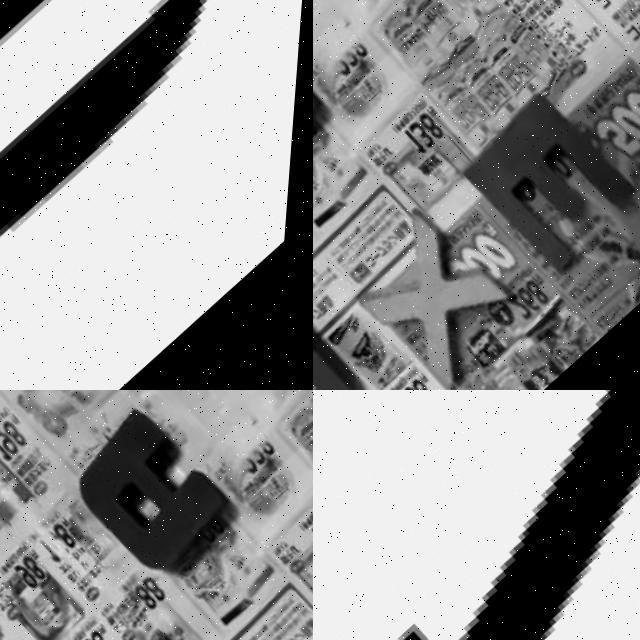0: (0, 0, 280, 379)
A: (62, 407, 244, 580)
E: (466, 97, 640, 271)
L: (313, 390, 640, 640)
W: (313, 299, 377, 390)
X: (351, 211, 540, 390)
